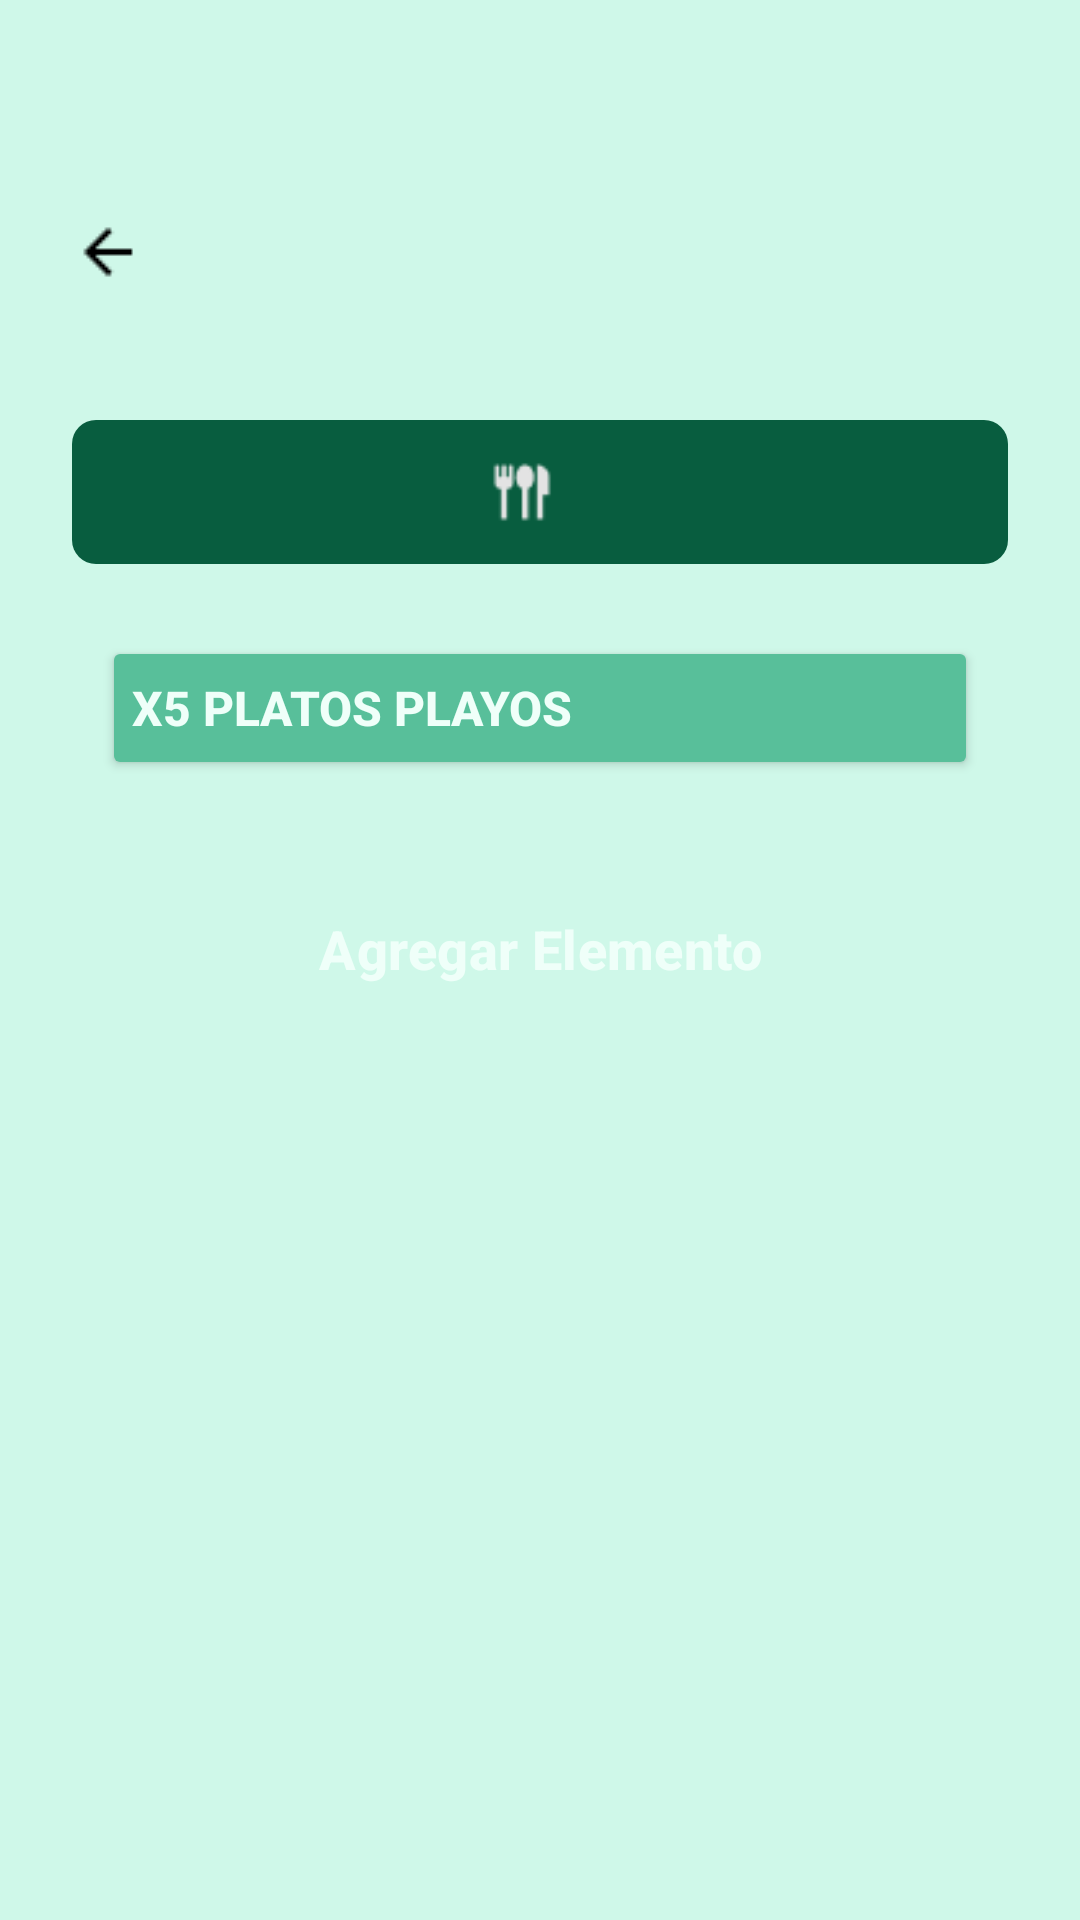

Locate icon controls on the screen. Image size 1080×1920, boxes as (x1, y1, x2, y2).
cocina: (493, 463, 551, 521)
volver: (83, 227, 133, 277)
